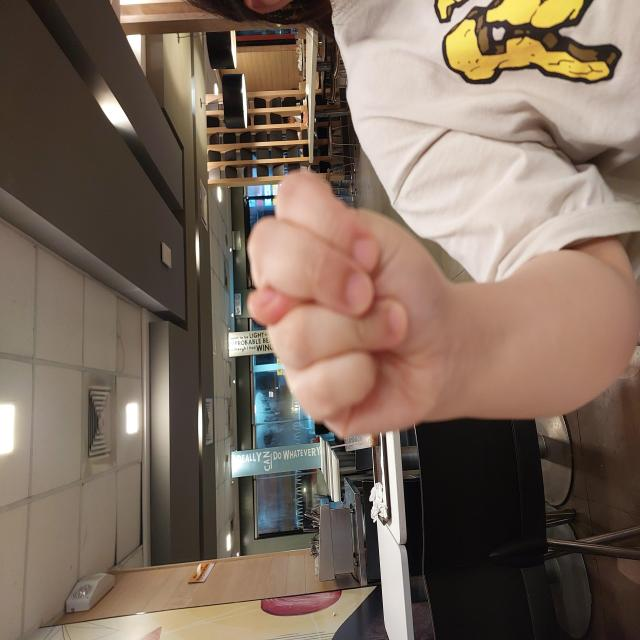N: (200, 246, 472, 453)
